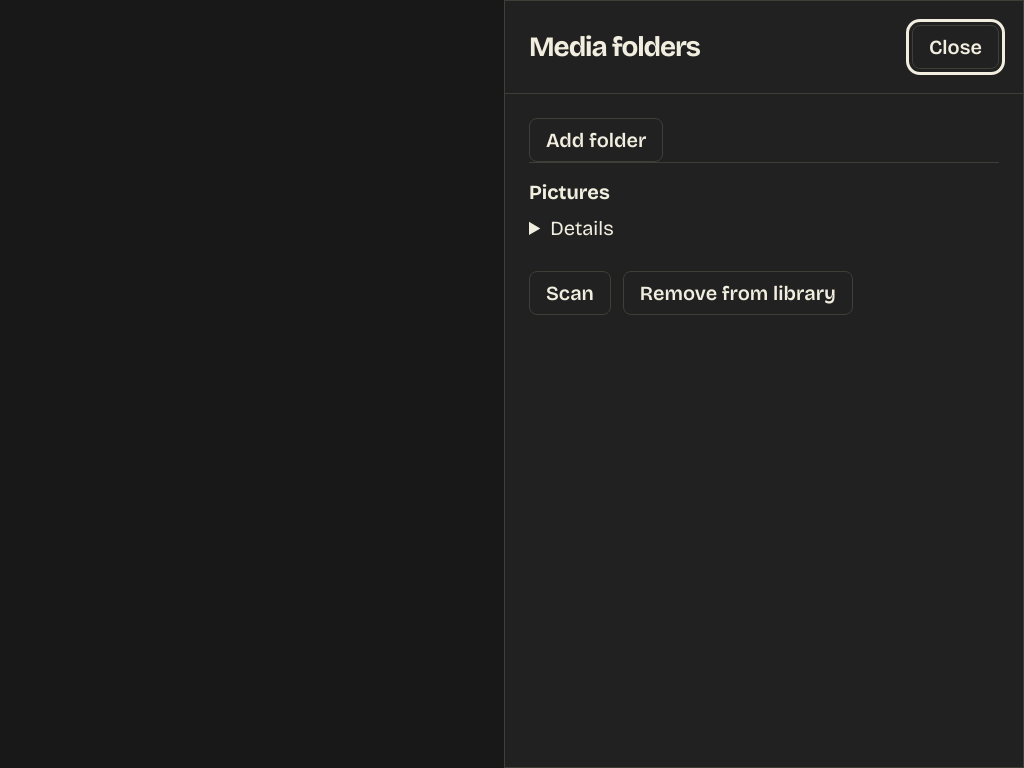
Test case: closes removal confirmation when the source was removed but the list fails to refresh
Click the button with aria-label "Remove Pictures from library" at (738, 293), box x1=623 y1=271 x2=853 y2=315
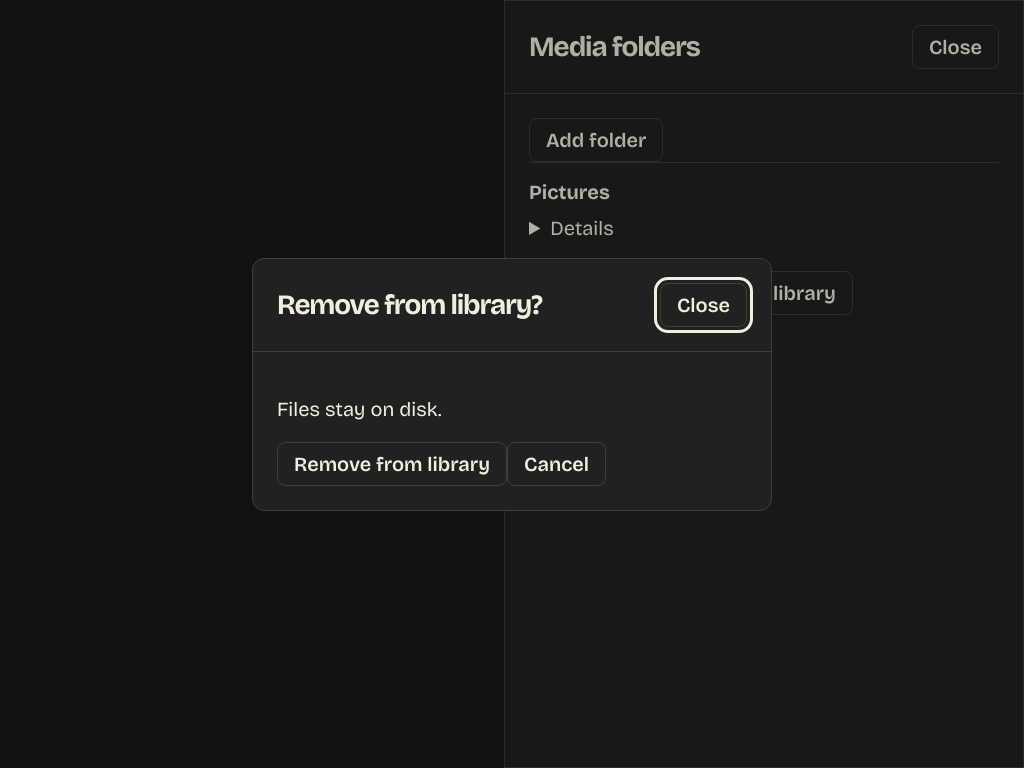
Click the button "Remove from library" at (392, 464), box x1=277 y1=442 x2=507 y2=486
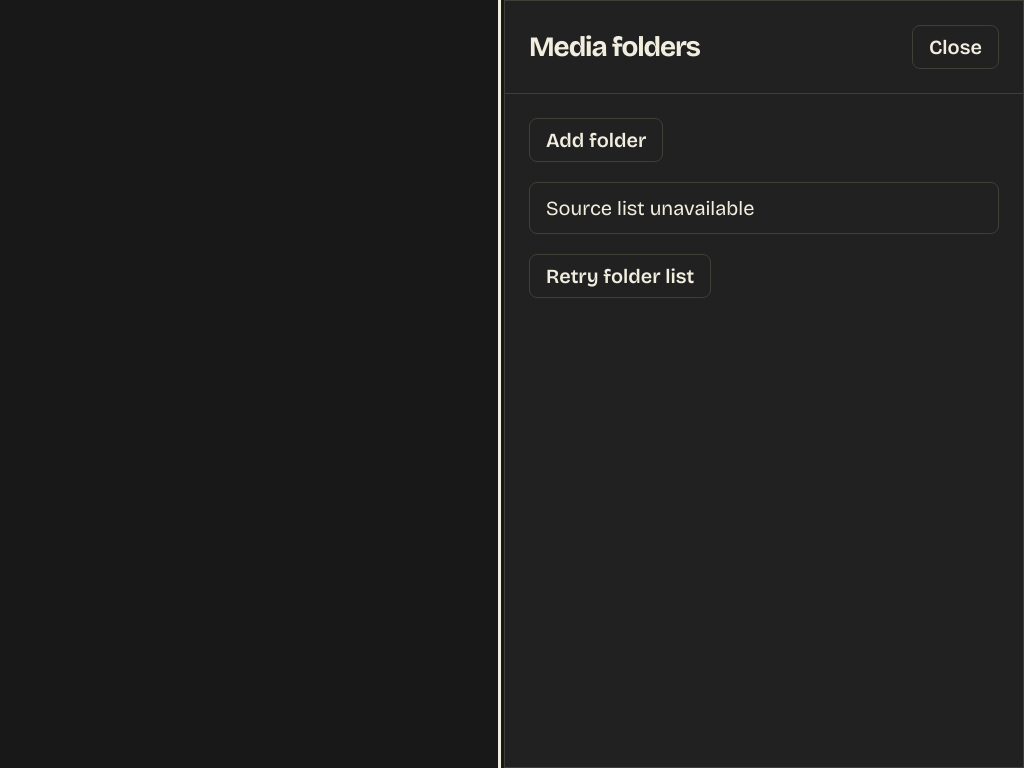
Check: the message reads "Source list unavailable", box x1=546 y1=196 x2=754 y2=220
Check: the button "Remove from library?" is gone
